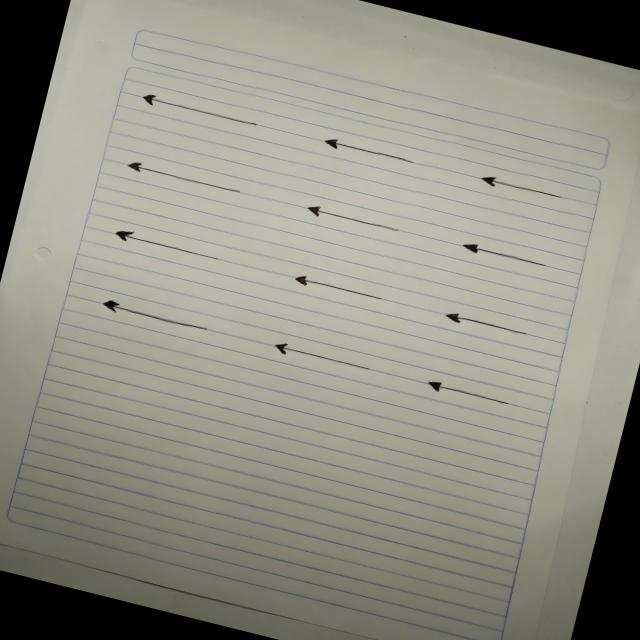arrow_line_left: (132, 81, 270, 141), (262, 334, 398, 391), (302, 126, 434, 179), (116, 149, 248, 202), (94, 292, 219, 346), (103, 222, 229, 272), (294, 198, 410, 245), (281, 268, 399, 314), (465, 165, 578, 213), (412, 372, 522, 418), (449, 235, 558, 281), (435, 302, 540, 348)
